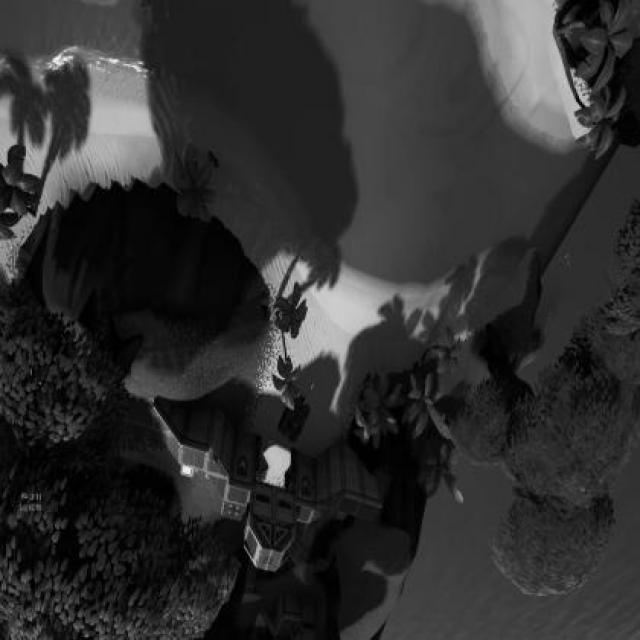tank: (278, 381, 316, 445)
